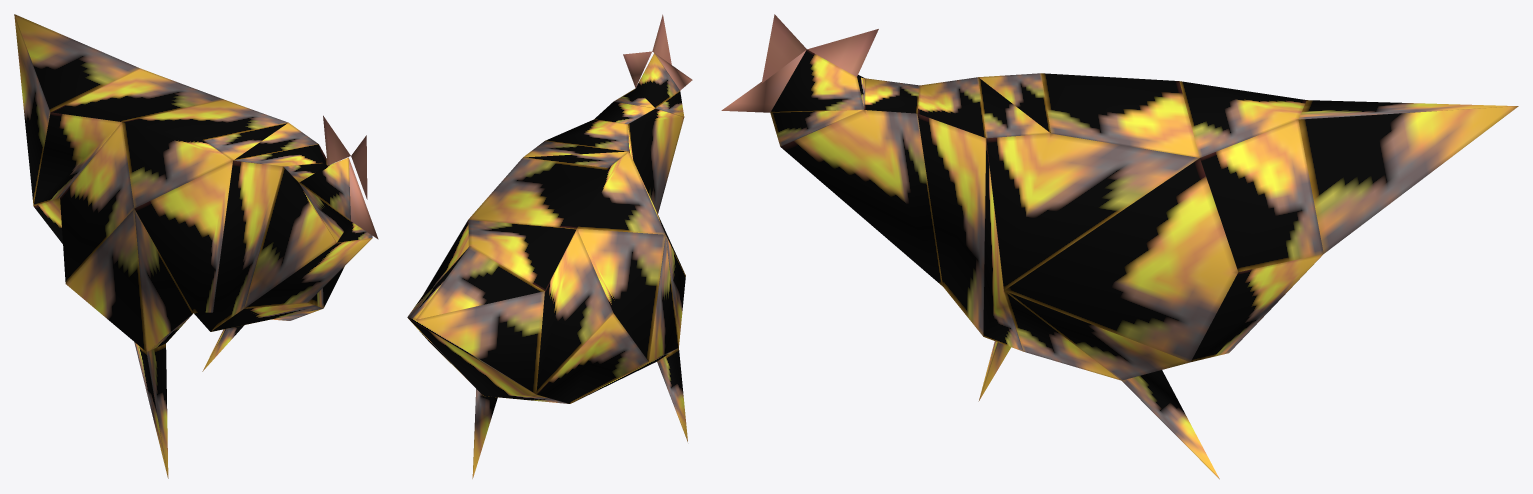
The picture shows the model from 3 angles, left to right: view 1: azimuth 30°, elevation 25°; view 2: azimuth 150°, elevation 25°; view 3: azimuth 270°, elevation 25°; orthographic projection. The views are drawn at different scales.
Parts seen in each view (by area): view 1: T1L2M001_3; view 2: T1L2M001_3; view 3: T1L2M001_3.
Boxes of the visible parts, bbox=[...] form: T1L2M001_3: bbox=[14, 14, 378, 478]; T1L2M001_3: bbox=[407, 14, 692, 478]; T1L2M001_3: bbox=[721, 14, 1518, 479].
Size of the model in its own units: 0.2086 by 0.3204 by 0.5101.
